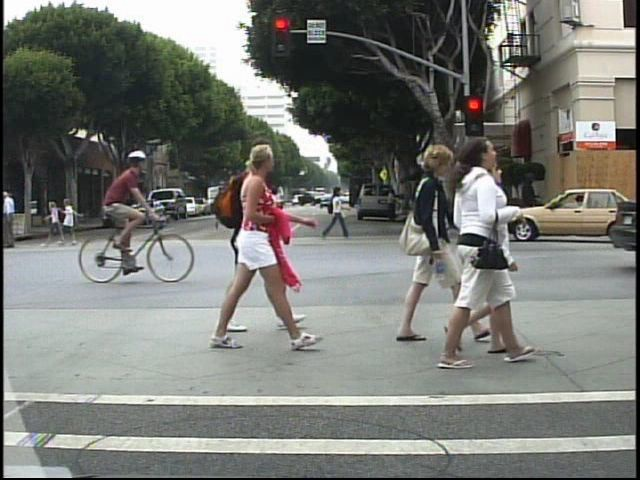person: (437, 136, 533, 375), (199, 142, 309, 350), (386, 137, 466, 352), (438, 159, 520, 361), (228, 147, 281, 343), (90, 146, 153, 276), (318, 183, 352, 245), (424, 177, 453, 239), (5, 187, 24, 251), (385, 187, 400, 223)
